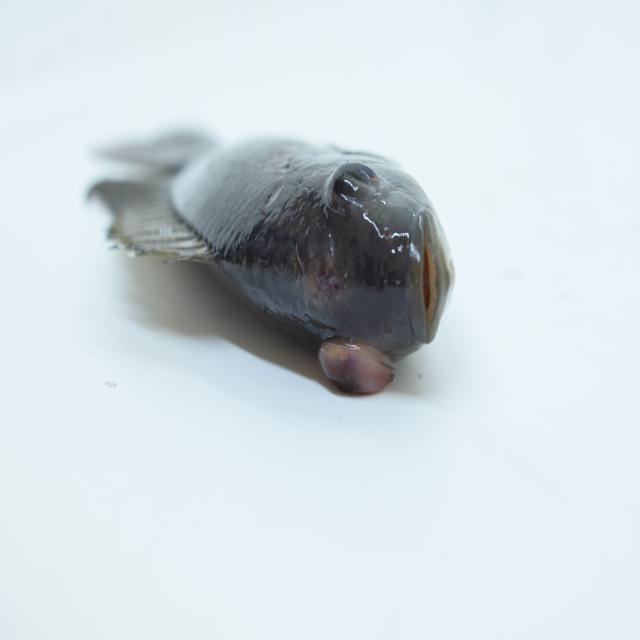streptococcus Disease: (82, 122, 459, 400)
